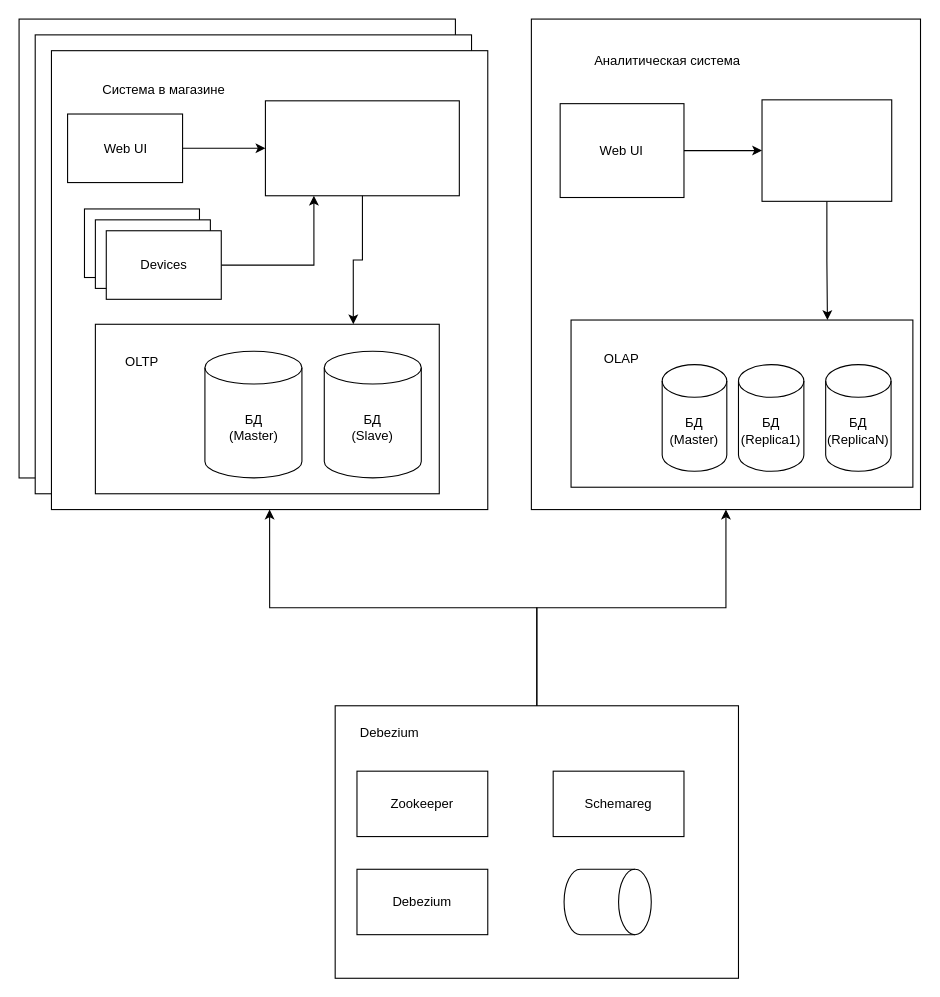
This 940x997 diagram has some shape labels left out. Here are the shapes that lost their labels. From the top down, the centre of each, then its label:
At point (361, 148): "API сервиса задач сотрудников".
At point (826, 150): "Web API".
At point (607, 901): "Kafka".
